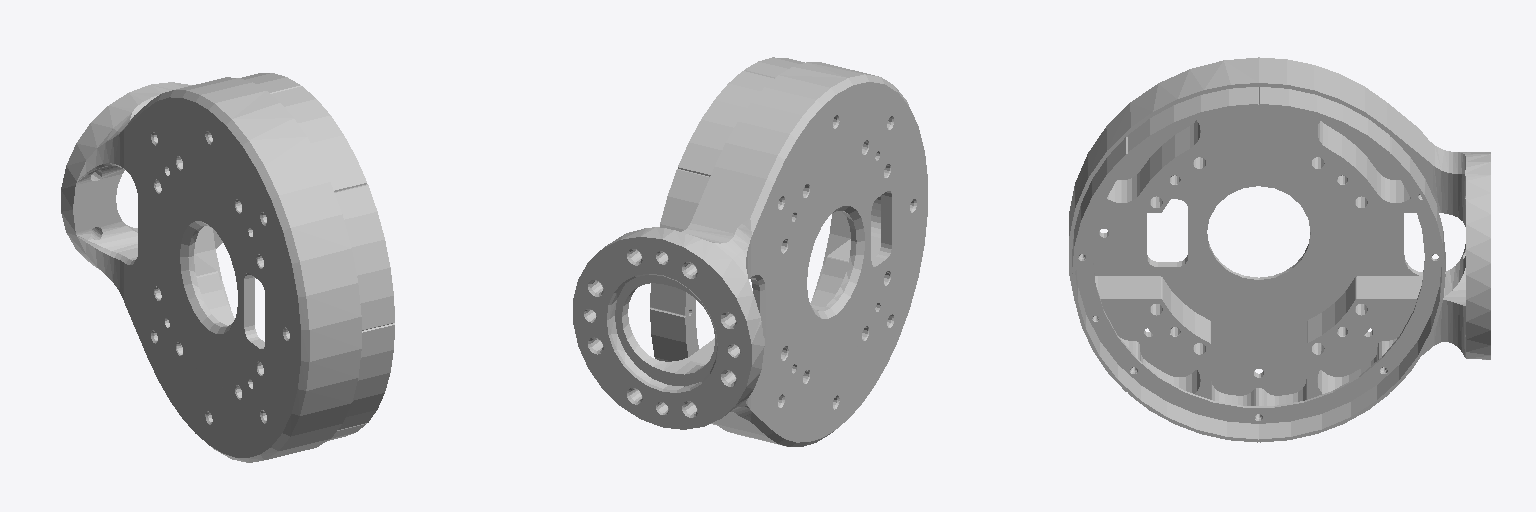
The model's file is wrist.stl.obj.
3 renders of one model, left to right at view 1: azimuth 30°, elevation 25°; view 2: azimuth 150°, elevation 25°; view 3: azimuth 270°, elevation 25°, orthographic.
Parts seen in each view (by area): view 1: <STL_BINARY>; view 2: <STL_BINARY>; view 3: <STL_BINARY>.
Part boxes in pixels (left/top/right/bottom): <STL_BINARY>: left=61, top=73, right=394, bottom=462; <STL_BINARY>: left=573, top=57, right=927, bottom=446; <STL_BINARY>: left=1069, top=57, right=1490, bottom=442.
Size of the model in its own units: 0.05 by 0.092 by 0.1018.